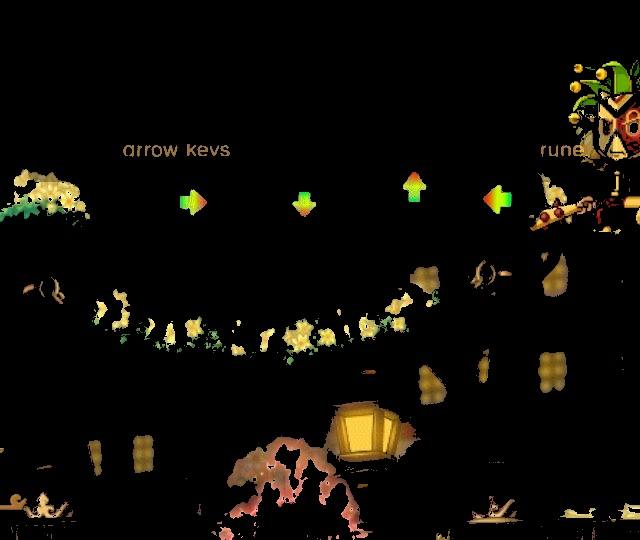rune_box: (145, 147, 556, 246)
